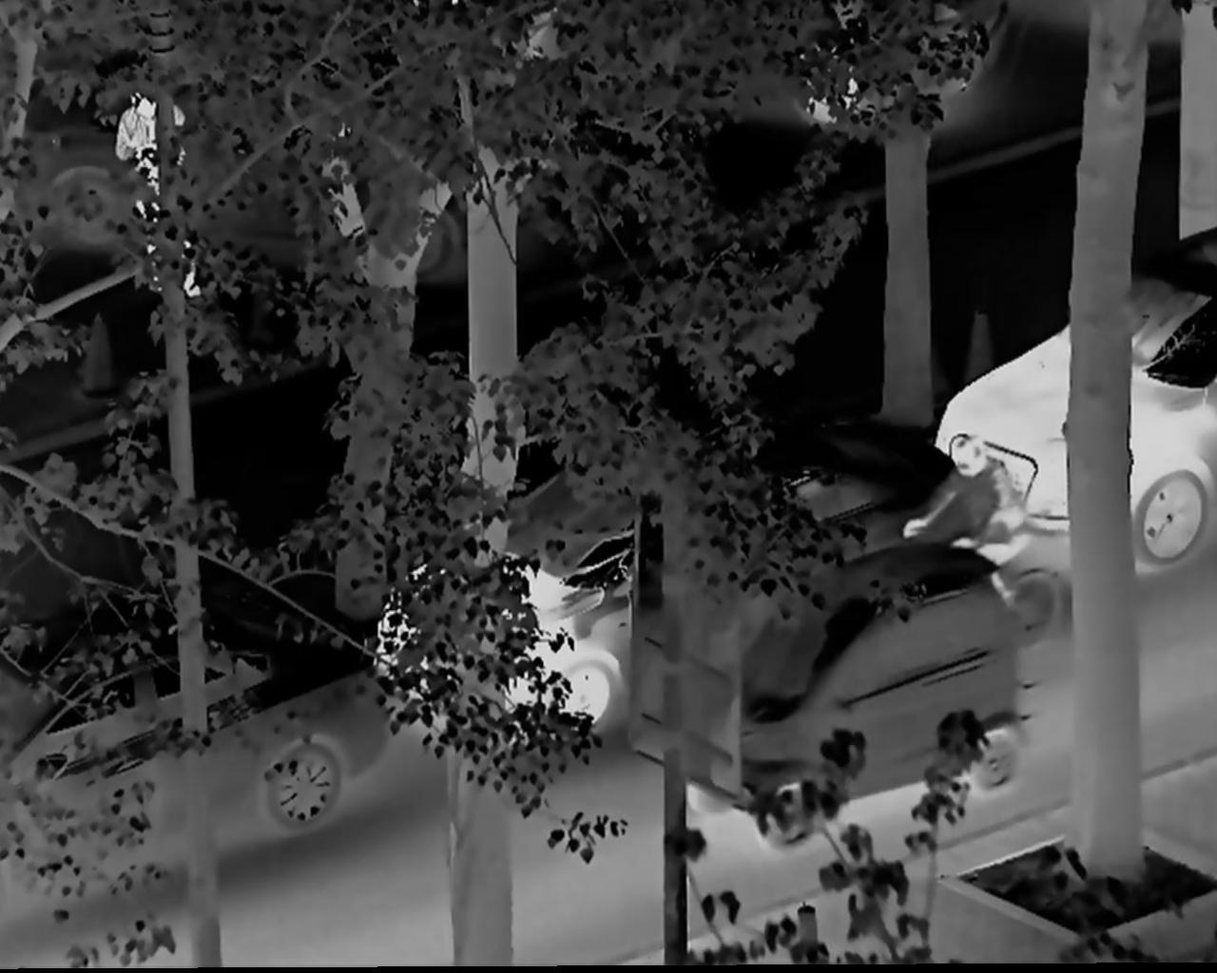person: (902, 433, 1040, 601), (115, 75, 198, 303)
